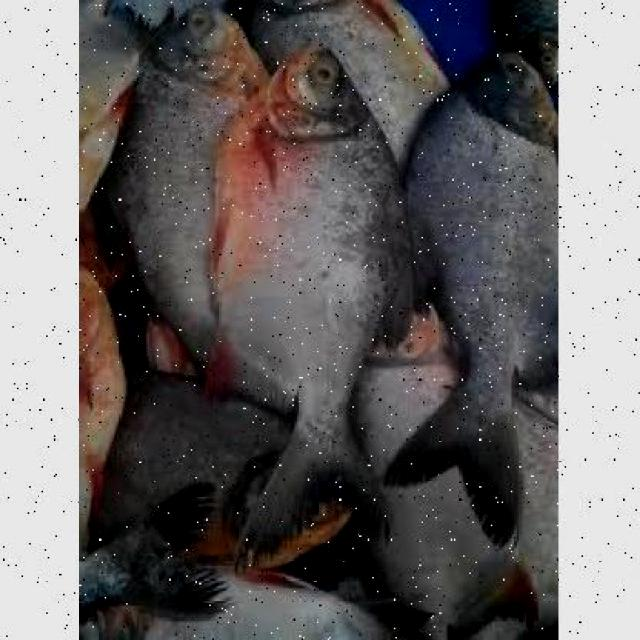ikan-pacu: (223, 49, 394, 478), (403, 42, 560, 484)
